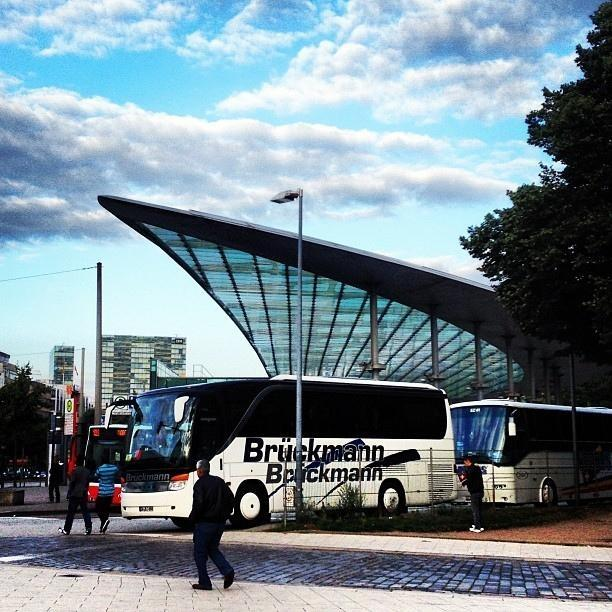bus: (102, 376, 458, 530), (455, 398, 612, 509), (86, 422, 126, 469)
